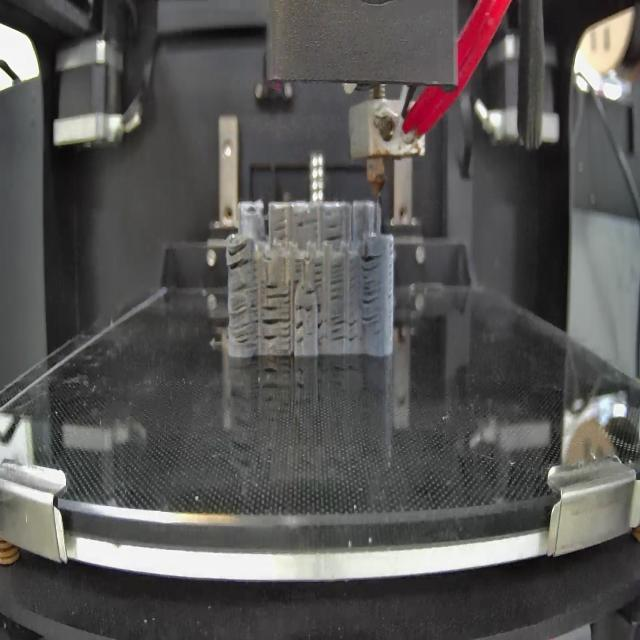cracks: (230, 279, 260, 348), (361, 252, 382, 322), (262, 302, 291, 345), (227, 243, 253, 269), (330, 260, 345, 302), (331, 312, 348, 344), (326, 219, 346, 245), (266, 280, 290, 301), (317, 302, 327, 349), (292, 255, 304, 287), (349, 316, 362, 344), (295, 301, 315, 316), (295, 320, 305, 349), (313, 260, 323, 288), (295, 216, 318, 228), (274, 220, 287, 240), (306, 287, 314, 296)
